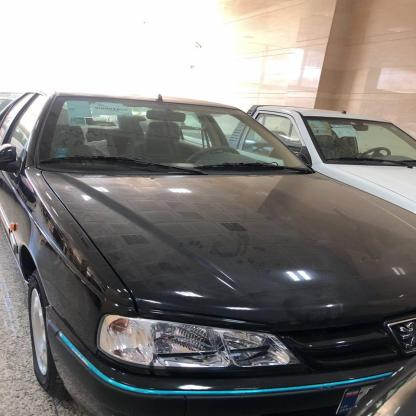Car: (0, 83, 416, 416), (252, 79, 416, 246)
